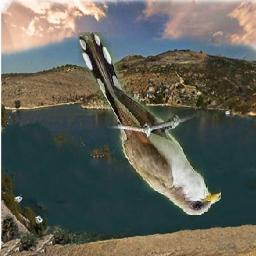Cuckoo: (79, 33, 222, 216)
